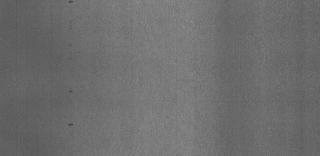oil spot: (67, 120, 73, 132), (66, 88, 76, 94), (66, 1, 74, 6)
